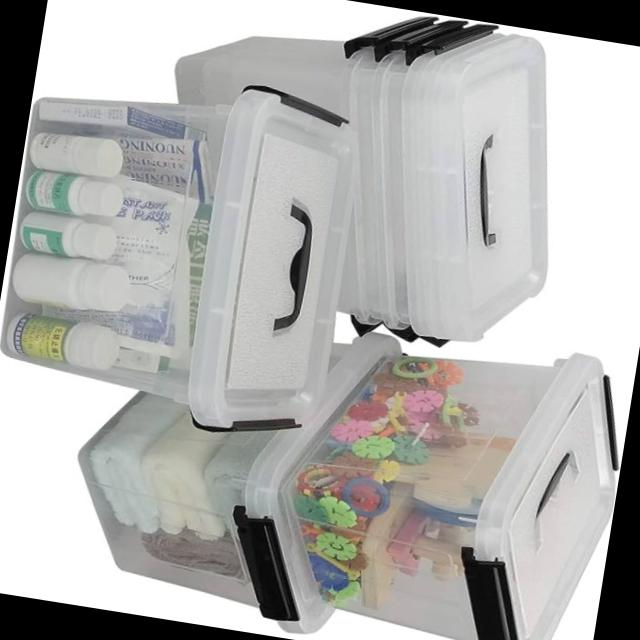plastic_box: (1, 63, 386, 453), (159, 22, 580, 349), (43, 319, 406, 634), (264, 345, 616, 640)
